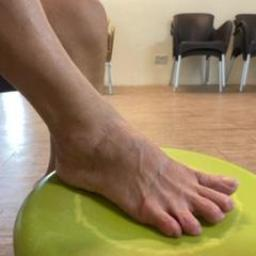Lateral View -Right Foot-: (35, 88, 249, 248)
